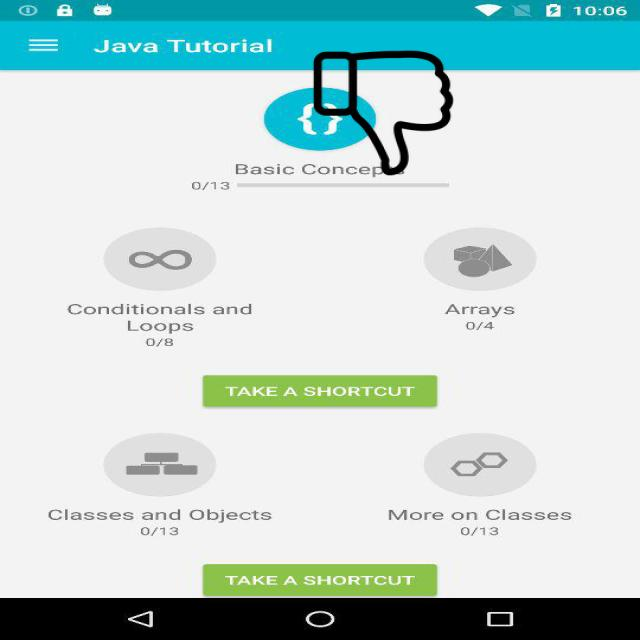obstruction: (312, 51, 455, 175)
